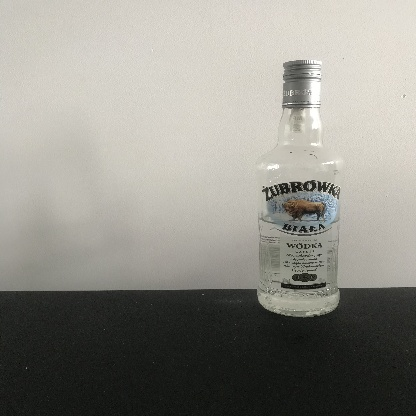nakretka: (279, 57, 325, 111)
